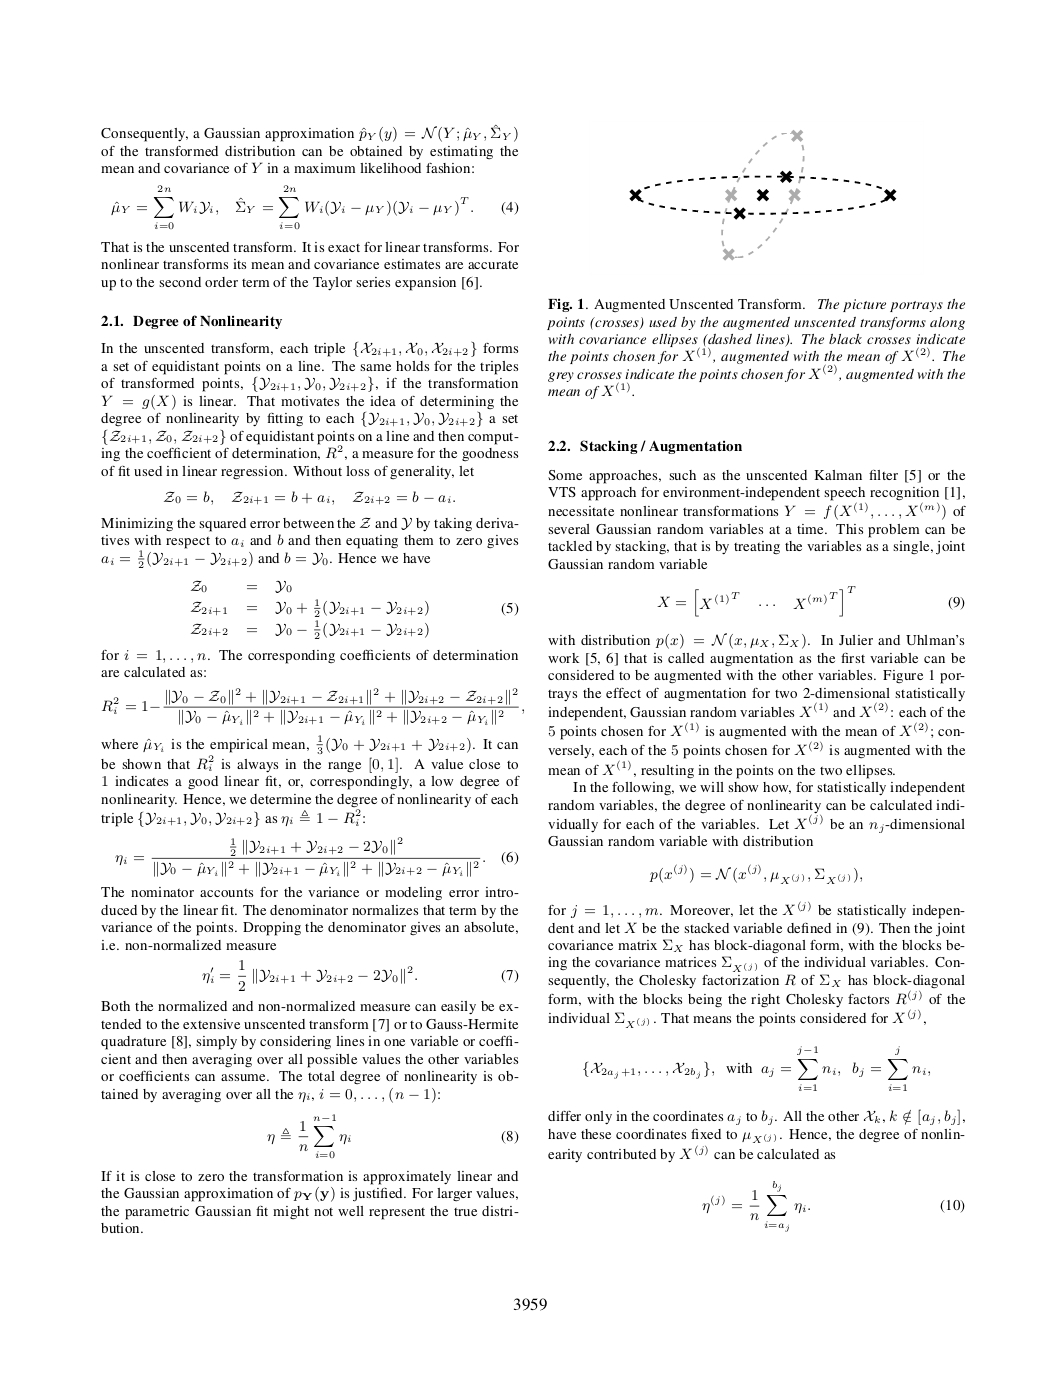figure: (629, 130, 896, 260)
formula: (111, 185, 518, 228), (115, 835, 518, 877), (101, 686, 523, 726), (583, 1046, 929, 1090), (702, 1180, 964, 1231), (267, 1113, 518, 1159), (658, 585, 964, 617), (202, 960, 518, 991), (189, 598, 518, 617), (189, 619, 428, 639), (649, 863, 862, 884), (163, 490, 454, 505), (189, 580, 291, 593)
